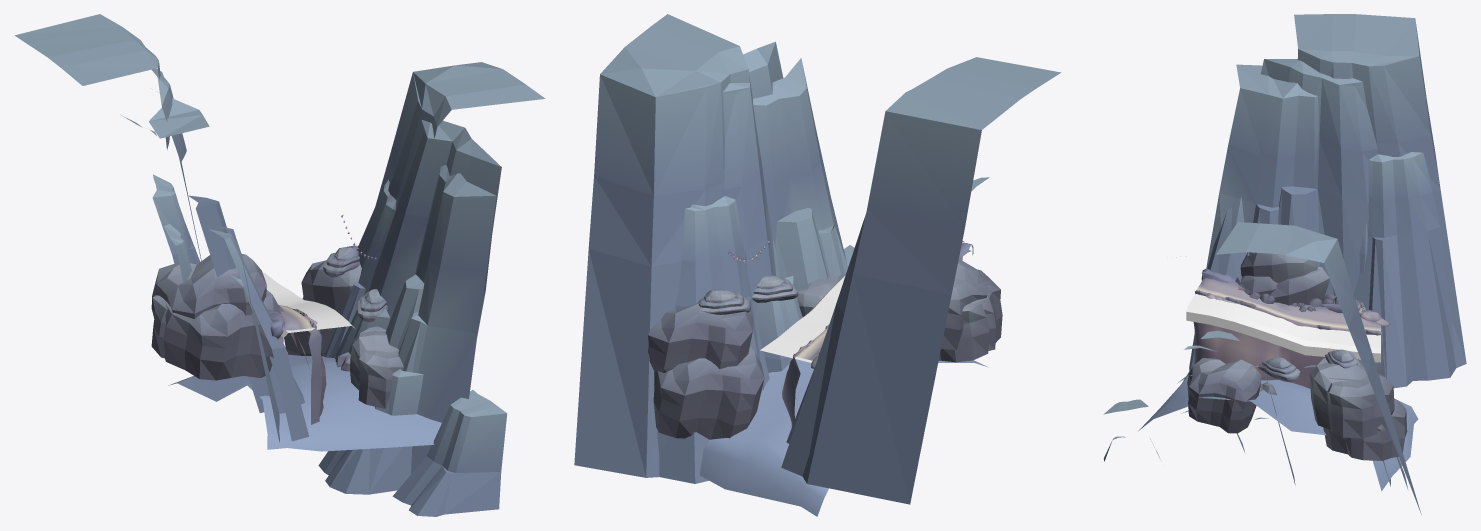
The model's file is Arctic_Narrows_Right_Curve_Right_15_B.glb.
The picture shows the model from 3 angles, left to right: view 1: azimuth 30°, elevation 25°; view 2: azimuth 150°, elevation 25°; view 3: azimuth 270°, elevation 25°; orthographic projection. The views are drawn at different scales.
Visible parts, largest first — view 1: Arctic_Narrows_Left_IceWall_A02 (1), Arctic_Narrows_Right_IceWall_A02 (1), Arctic_Narrows_Right_Curve_Right_15_B, Arctic_Narrows_Left_IceWall_A02_Right, Arctic_Narrows_SnowRock_A01 (4), Arctic_Narrows_Left_IceWall_A02_Mid, Arctic_Narrows_SnowRock_A01 (5), Arctic_Narrows_Right_IceWall_A02_Left, Arctic_Narrows_SnowRock_A01 (2), Arctic_Narrows_Left_IceWall_A02_Left, Arctic_Narrows_Right_IceWall_A02_Mid, Arctic_Narrows_SnowRock_A01 (+3 smaller); view 2: Arctic_Narrows_Left_IceWall_A02 (1), Arctic_Narrows_Right_IceWall_A02 (1), Arctic_Narrows_Right_Curve_Right_15_B, Arctic_Narrows_Left_IceWall_A02_Left, Arctic_Narrows_SnowRock_A01 (1), Arctic_Narrows_SnowRock_A01, Arctic_Narrows_Right_IceWall_A02_Right, inv_fill, Arctic_Narrows_SnowRock_A01 (5), Arctic_Narrows_Left_IceWall_A02_Mid, Arctic_Narrows_SnowRock_A01 (3), Arctic_Narrows_SnowRock_A01 (4) (+1 smaller); view 3: Arctic_Narrows_Right_IceWall_A02 (1), Arctic_Narrows_Right_IceWall_A02_Right, Arctic_Narrows_Right_Curve_Right_15_B, Arctic_Narrows_Left_IceWall_A02 (1), inv_fill, Arctic_Narrows_SnowRock_A01, Arctic_Narrows_SnowRock_A01 (2), Arctic_Narrows_SnowRock_A01 (1), Arctic_Narrows_SnowRock_A01 (5), Arctic_Narrows_Right_IceWall_A02_Left, Arctic_Narrows_SnowRock_A01 (3), Arctic_Narrows_SnowRock_A01 (4).
Boxes of the visible parts, x1,y1,x2,y2 form: Arctic_Narrows_Left_IceWall_A02 (1): (369,62,545,473); Arctic_Narrows_Right_IceWall_A02 (1): (14,14,285,442); Arctic_Narrows_Right_Curve_Right_15_B: (168,305,441,451); Arctic_Narrows_Left_IceWall_A02_Right: (392,390,507,516); Arctic_Narrows_SnowRock_A01 (4): (164,290,280,380); Arctic_Narrows_Left_IceWall_A02_Mid: (318,308,423,494); Arctic_Narrows_SnowRock_A01 (5): (151,254,266,318); Arctic_Narrows_Right_IceWall_A02_Left: (209,229,309,441); Arctic_Narrows_SnowRock_A01 (2): (350,326,403,408); Arctic_Narrows_Left_IceWall_A02_Left: (324,179,396,357); Arctic_Narrows_Right_IceWall_A02_Mid: (152,174,208,380); Arctic_Narrows_SnowRock_A01: (301,245,361,314); Arctic_Narrows_Left_IceWall_A02 (1): (574,14,848,477); Arctic_Narrows_Right_IceWall_A02 (1): (802,57,1061,504); Arctic_Narrows_Right_Curve_Right_15_B: (699,241,988,516); Arctic_Narrows_Left_IceWall_A02_Left: (657,196,769,483); Arctic_Narrows_SnowRock_A01 (1): (653,347,764,439); Arctic_Narrows_SnowRock_A01: (648,302,753,372); Arctic_Narrows_Right_IceWall_A02_Right: (781,214,865,476); inv_fill: (760,275,845,362); Arctic_Narrows_SnowRock_A01 (5): (941,259,987,349); Arctic_Narrows_Left_IceWall_A02_Mid: (757,276,802,372); Arctic_Narrows_SnowRock_A01 (3): (938,300,989,362); Arctic_Narrows_SnowRock_A01 (4): (971,269,1002,350); Arctic_Narrows_Right_IceWall_A02 (1): (1206,14,1466,367); Arctic_Narrows_Right_IceWall_A02_Right: (1354,152,1456,388); Arctic_Narrows_Right_Curve_Right_15_B: (1138,268,1418,491); Arctic_Narrows_Left_IceWall_A02 (1): (1176,222,1421,514); inv_fill: (1186,293,1380,362); Arctic_Narrows_SnowRock_A01: (1309,358,1394,438); Arctic_Narrows_SnowRock_A01 (2): (1187,358,1261,433); Arctic_Narrows_SnowRock_A01 (1): (1323,398,1407,460); Arctic_Narrows_SnowRock_A01 (5): (1240,252,1317,283); Arctic_Narrows_Right_IceWall_A02_Left: (1189,197,1249,371); Arctic_Narrows_SnowRock_A01 (3): (1269,267,1329,305); Arctic_Narrows_SnowRock_A01 (4): (1235,274,1277,295).
Size of the model in its own units: 23.74 by 22.24 by 21.95.
